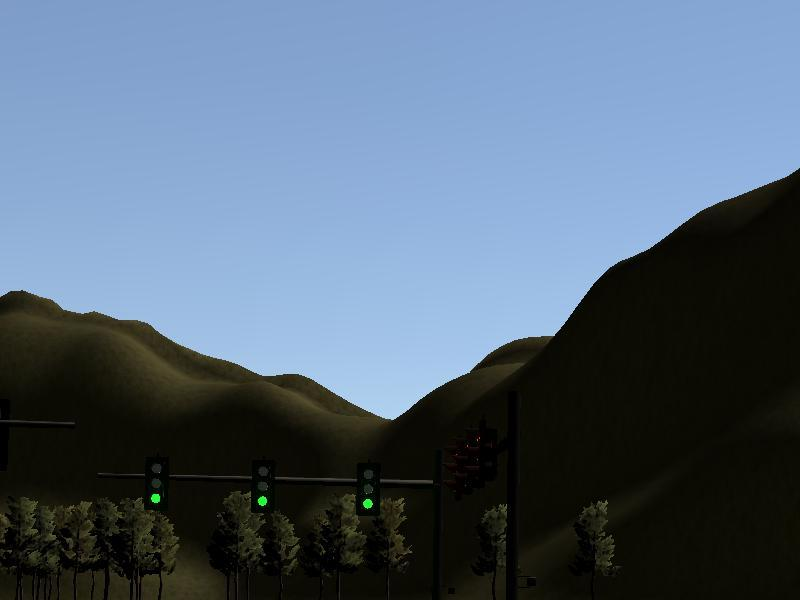Green: (355, 456, 380, 513), (252, 456, 274, 514), (146, 452, 165, 511)
